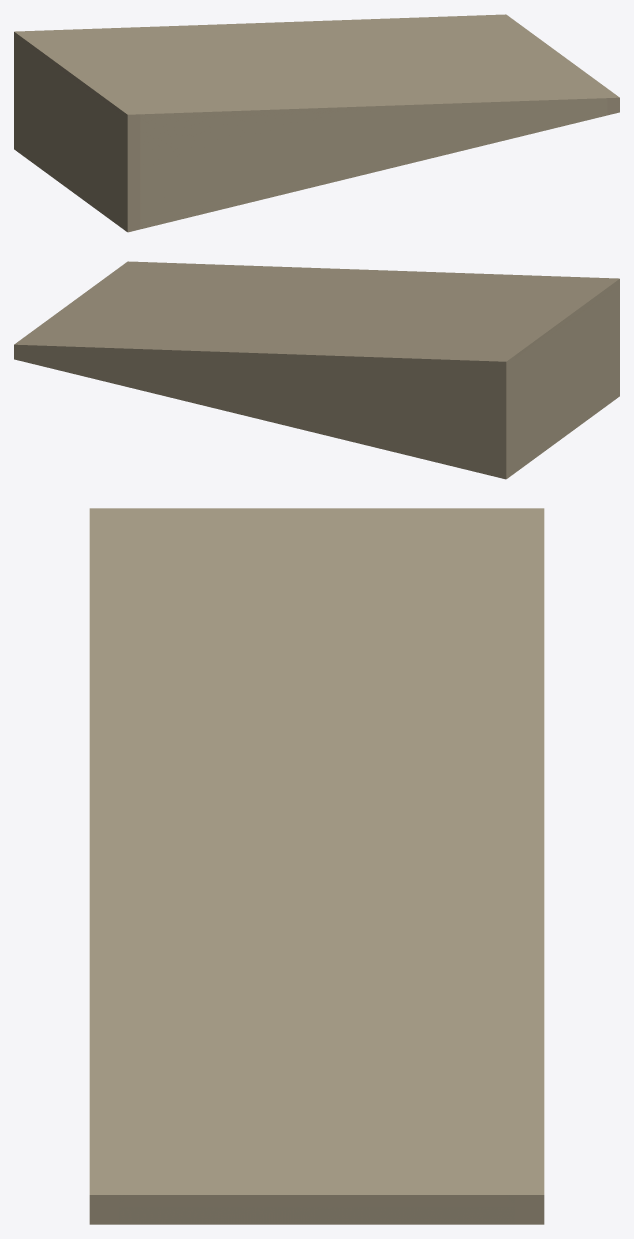
Rendered from street_kerb_end.glb.
3 views of the same model, one above another, from view 1: azimuth 30°, elevation 25°; view 2: azimuth 150°, elevation 25°; view 3: azimuth 270°, elevation 25° (orthographic). The views are drawn at different scales.
Visible parts, largest first — view 1: street_kerb_end_medium, street_kerb_end_detail, street_kerb_end_far; view 2: street_kerb_end_medium, street_kerb_end_detail, street_kerb_end_far; view 3: street_kerb_end_detail, street_kerb_end_far, street_kerb_end_medium.
Boxes of the visible parts, x1,y1,x2,y2 form: street_kerb_end_medium: (21,15,612,228); street_kerb_end_detail: (21,17,607,228); street_kerb_end_far: (14,14,619,232); street_kerb_end_medium: (21,262,612,475); street_kerb_end_detail: (24,264,612,476); street_kerb_end_far: (14,261,619,479); street_kerb_end_detail: (101,508,532,1224); street_kerb_end_far: (89,508,544,1224); street_kerb_end_medium: (89,508,544,1224).
Size of the model in its own units: 0.7 by 0.16 by 0.28.
